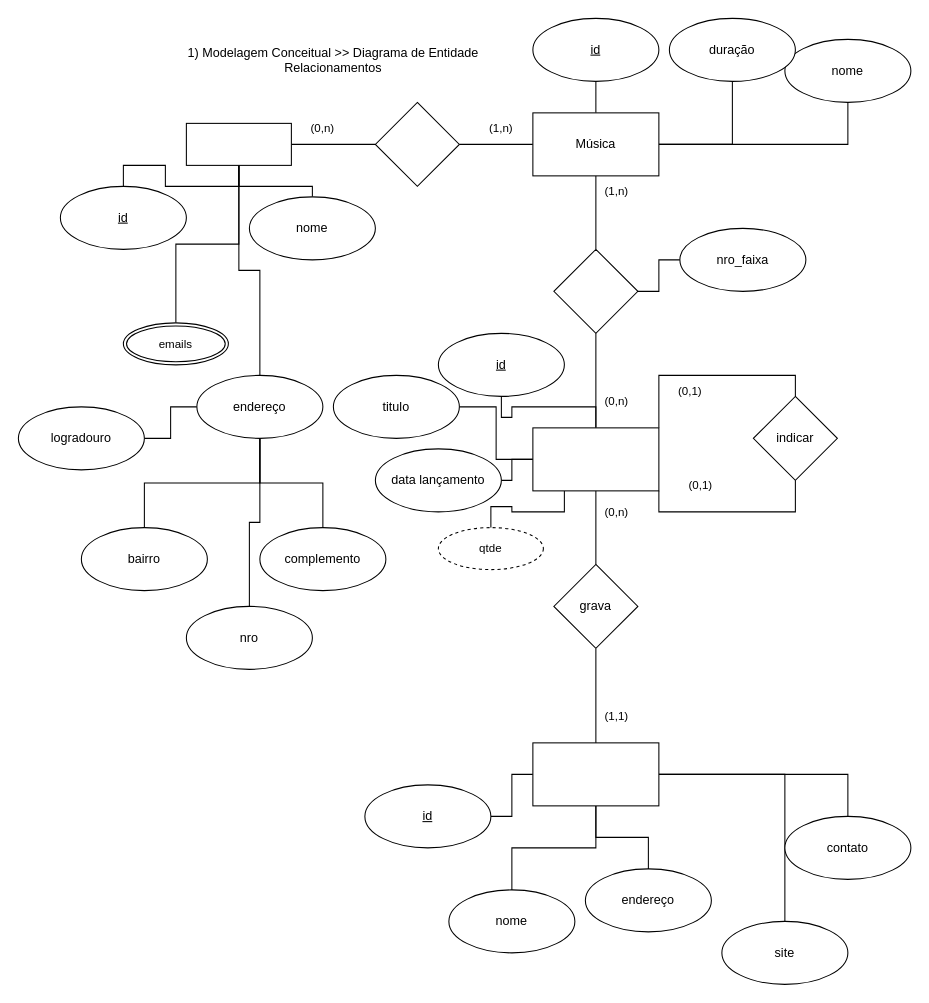
Image size: 929x1003. Some labels were removed from this diagram. The centre of each missing label's shape, as x and y in pixels:
"Album (cd)" goes at point 595,459.
"Compositor (Autor)" goes at point 238,143.
"compõe" goes at point 416,143.
"Gravadora" goes at point 595,774.
"pertence" goes at point 595,290.
